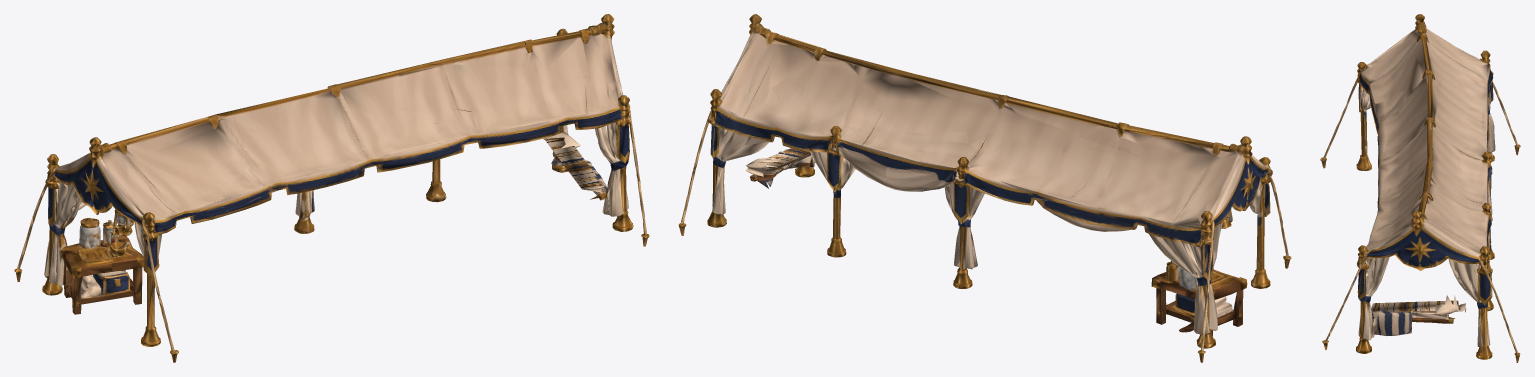
Rendered from infirmary-tent-shell.glb.
3 renders of one model, left to right at view 1: azimuth 30°, elevation 25°; view 2: azimuth 150°, elevation 25°; view 3: azimuth 270°, elevation 25°, orthographic. The views are drawn at different scales.
Visible parts, largest first — view 1: Mesh_0; view 2: Mesh_0; view 3: Mesh_0.
Boxes of the visible parts, x1,y1,x2,y2 form: Mesh_0: (14,14,649,362); Mesh_0: (678,14,1291,362); Mesh_0: (1320,14,1520,362).
Size of the model in its own units: 15.9 by 5.17 by 6.39.
Materials: 1 (1 with a texture image).
